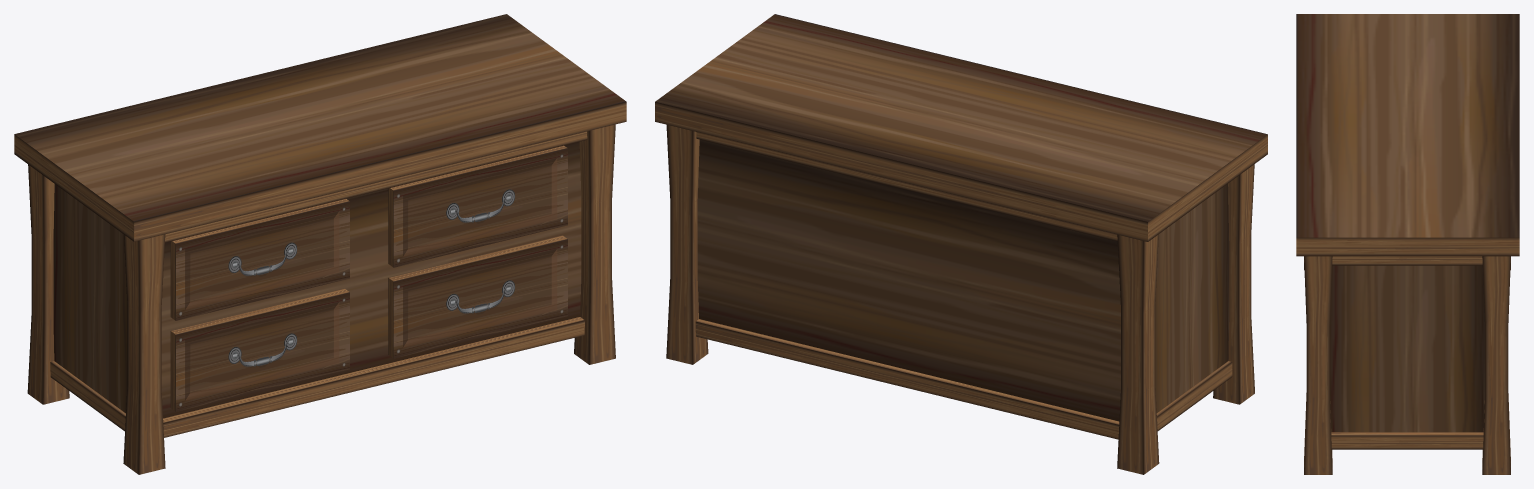
Rendered from Convenient_01.FBX.
3 renders of one model, left to right at view 1: azimuth 30°, elevation 25°; view 2: azimuth 150°, elevation 25°; view 3: azimuth 270°, elevation 25°, orthographic. The views are drawn at different scales.
Visible parts, largest first — view 1: Convenient_01; view 2: Convenient_01; view 3: Convenient_01.
Part boxes in pixels (x1=…): Convenient_01: x1=14, y1=14, x2=626, y2=474; Convenient_01: x1=655, y1=14, x2=1267, y2=474; Convenient_01: x1=1296, y1=14, x2=1519, y2=474.
Size of the model in its own units: 1.5 by 0.7498 by 0.6306.
